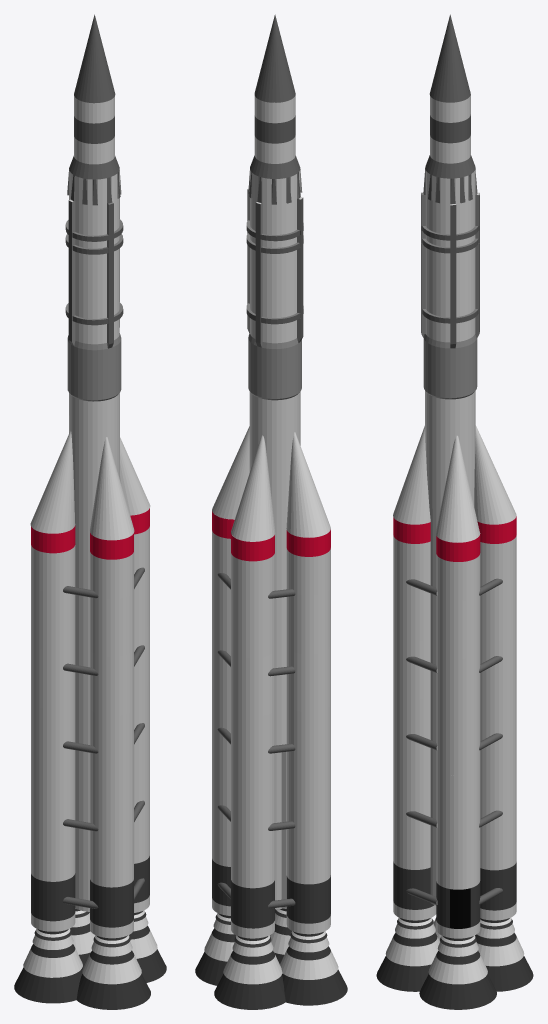
File: rocket.fbx
3 renders of one model, left to right at view 1: azimuth 30°, elevation 25°; view 2: azimuth 150°, elevation 25°; view 3: azimuth 270°, elevation 25°, orthographic.
Visible parts, largest first — view 1: Cylinder.003, Cylinder.004, Cylinder.002, Cylinder.009, Cylinder.007, Cylinder.011, Cylinder.005, Cylinder.010, Cylinder.008, Cylinder.006; view 2: Cylinder.003, Cylinder.004, Cylinder.002, Cylinder.009, Cylinder.007, Cylinder.008, Cylinder.011, Cylinder.005, Cylinder.006, Cylinder.010; view 3: Cylinder.003, Cylinder.004, Cylinder.002, Cylinder.009, Cylinder.007, Cylinder.011, Cylinder.008, Cylinder.010, Cylinder.005, Cylinder.006, Cylinder.001.
Boxes of the visible parts, x1=… form: Cylinder.003: x1=23, y1=96, x2=157, y2=984; Cylinder.004: x1=14, y1=909, x2=166, y2=1009; Cylinder.002: x1=31, y1=856, x2=149, y2=927; Cylinder.009: x1=67, y1=340, x2=121, y2=401; Cylinder.007: x1=65, y1=170, x2=123, y2=348; Cylinder.011: x1=31, y1=508, x2=149, y2=559; Cylinder.005: x1=74, y1=14, x2=115, y2=103; Cylinder.010: x1=63, y1=567, x2=144, y2=908; Cylinder.008: x1=65, y1=169, x2=122, y2=350; Cylinder.006: x1=69, y1=116, x2=119, y2=179; Cylinder.003: x1=204, y1=95, x2=338, y2=984; Cylinder.004: x1=195, y1=908, x2=347, y2=1009; Cylinder.002: x1=212, y1=859, x2=330, y2=928; Cylinder.009: x1=248, y1=339, x2=301, y2=908; Cylinder.007: x1=246, y1=172, x2=303, y2=347; Cylinder.008: x1=246, y1=169, x2=303, y2=348; Cylinder.011: x1=212, y1=511, x2=330, y2=561; Cylinder.005: x1=254, y1=14, x2=295, y2=102; Cylinder.006: x1=250, y1=115, x2=300, y2=178; Cylinder.010: x1=217, y1=573, x2=295, y2=908; Cylinder.003: x1=385, y1=94, x2=524, y2=984; Cylinder.004: x1=376, y1=918, x2=533, y2=1009; Cylinder.002: x1=393, y1=861, x2=516, y2=928; Cylinder.009: x1=423, y1=338, x2=477, y2=399; Cylinder.007: x1=421, y1=169, x2=479, y2=348; Cylinder.011: x1=393, y1=516, x2=516, y2=561; Cylinder.008: x1=421, y1=168, x2=479, y2=348; Cylinder.010: x1=406, y1=578, x2=502, y2=904; Cylinder.005: x1=429, y1=14, x2=470, y2=102; Cylinder.006: x1=425, y1=114, x2=475, y2=178; Cylinder.001: x1=450, y1=888, x2=470, y2=928.
Bounding box in the file's own units: 647 × 4194 × 621.
